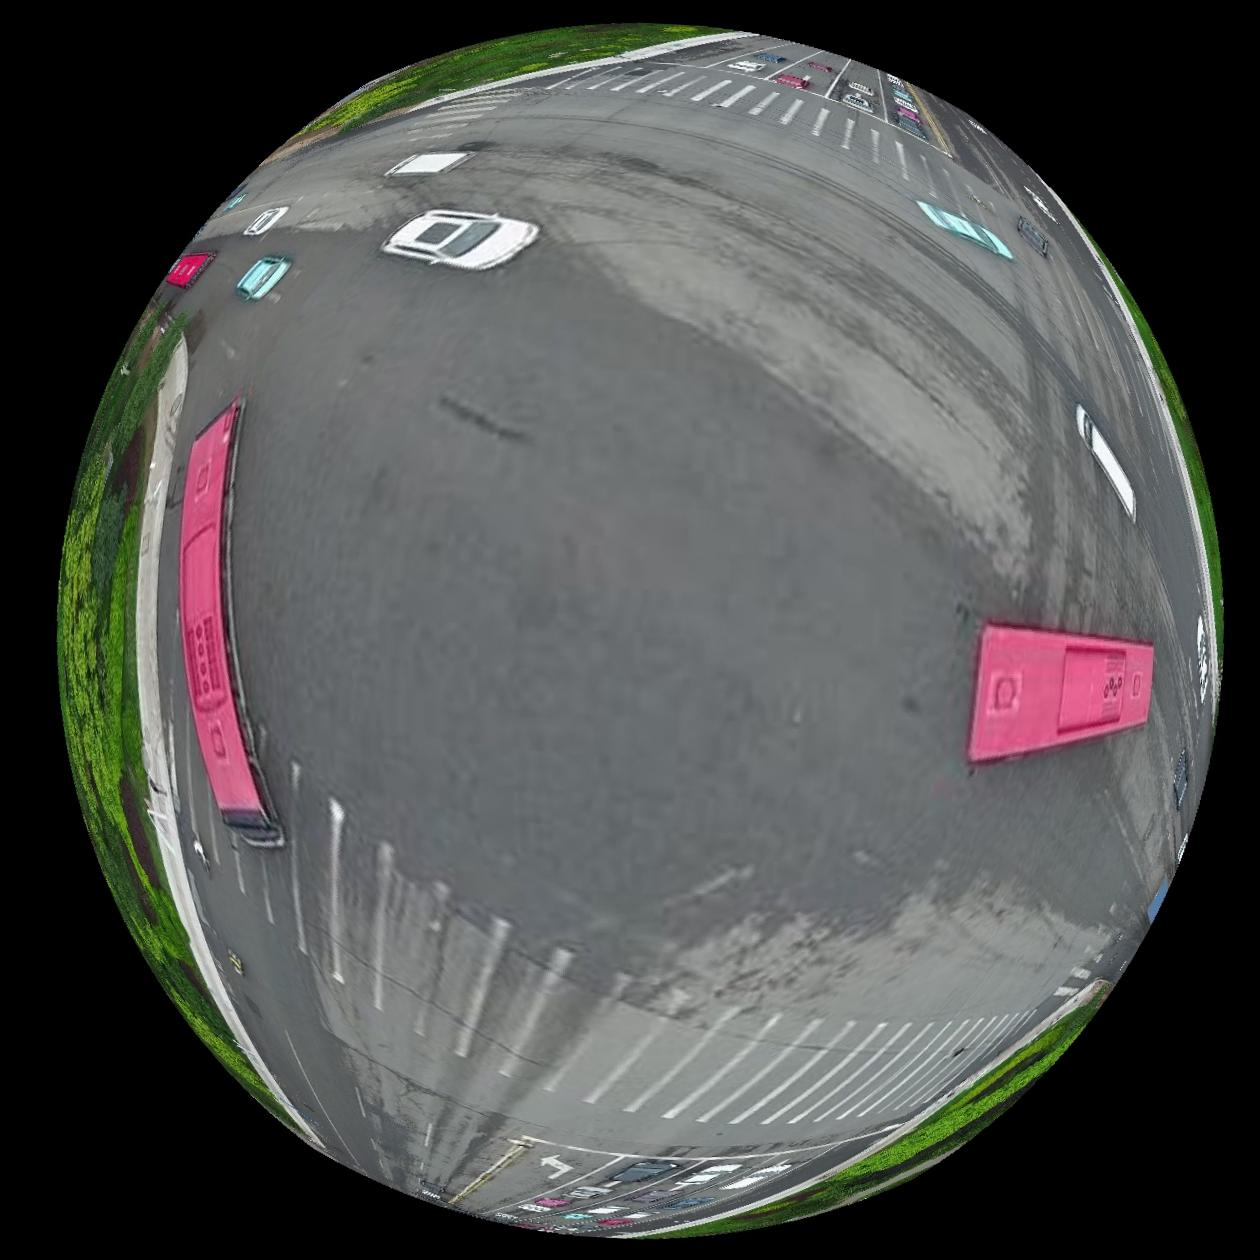cars: (178, 397, 284, 847), (970, 622, 1156, 763), (382, 207, 540, 267), (1078, 403, 1139, 519), (918, 198, 1015, 256), (235, 253, 290, 298), (602, 1160, 682, 1188), (384, 149, 473, 172), (165, 249, 212, 287), (241, 202, 288, 234), (1199, 614, 1213, 703), (1176, 748, 1193, 810)
trees: (58, 307, 253, 1080), (653, 982, 1112, 1237), (276, 20, 721, 151)
